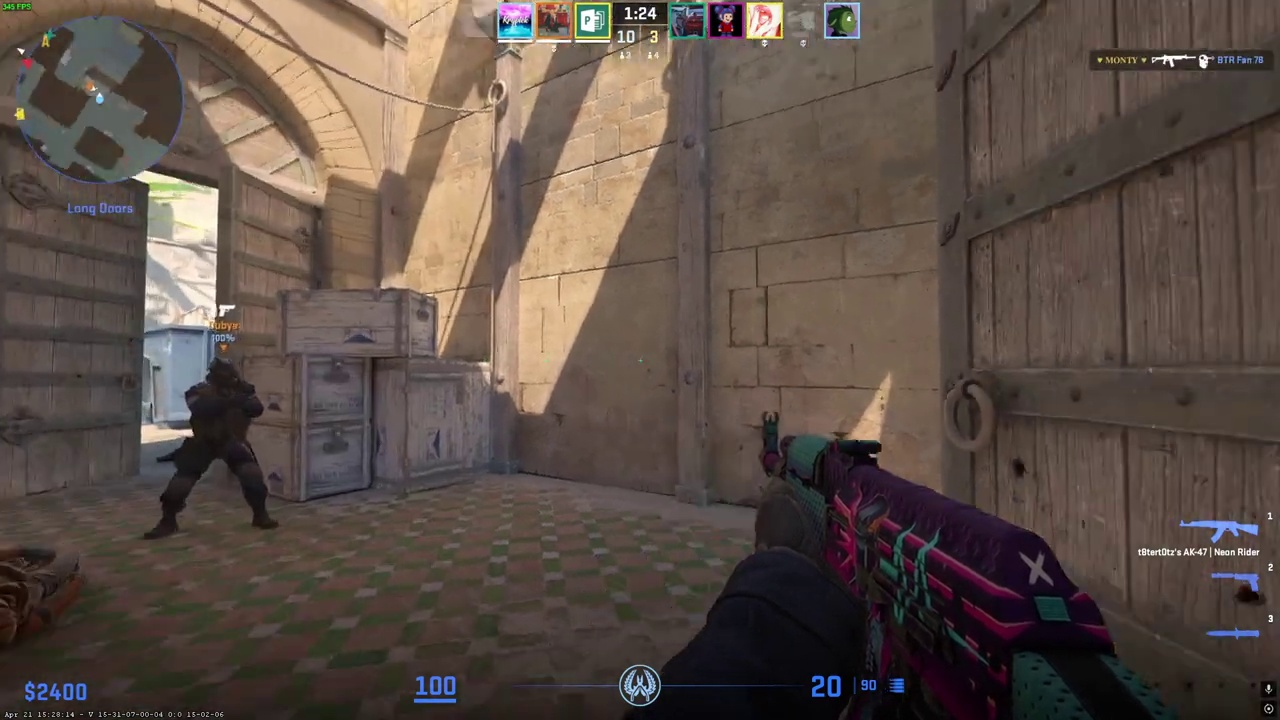CT: (152, 358, 279, 540)
